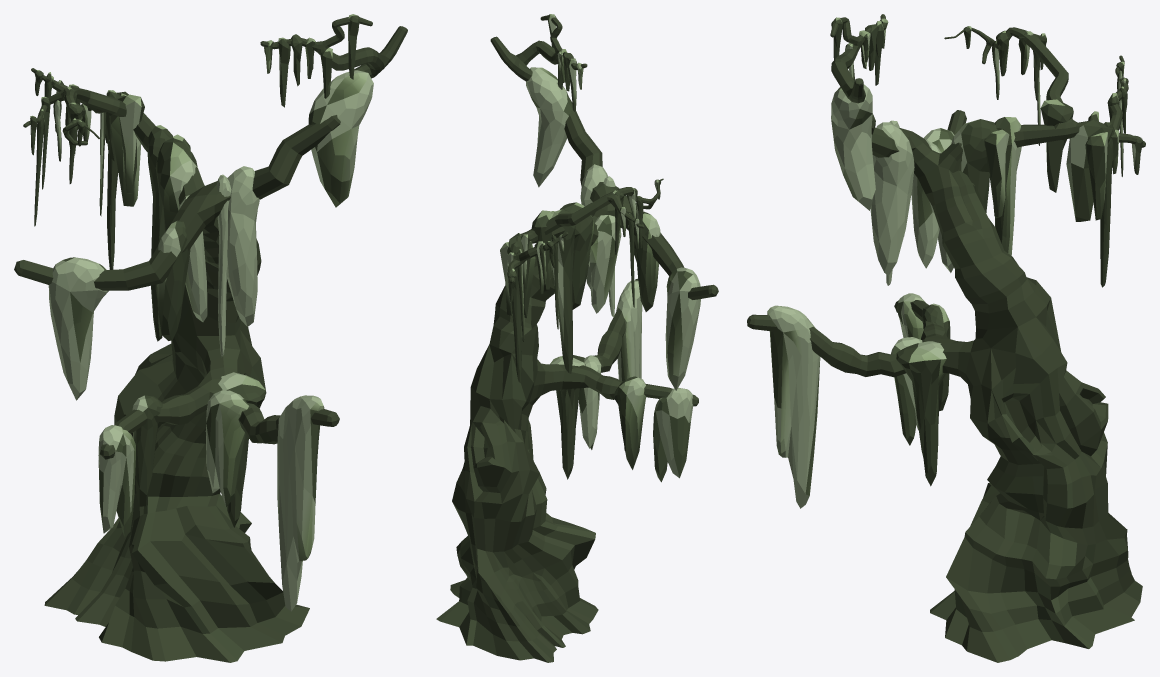
File: EA_Swamp_tree7.glb
3 views of the same model, side by side, from view 1: azimuth 30°, elevation 25°; view 2: azimuth 150°, elevation 25°; view 3: azimuth 270°, elevation 25° (orthographic). The views are drawn at different scales.
Visible parts, largest first — view 1: EA_Swamp_tree7; view 2: EA_Swamp_tree7; view 3: EA_Swamp_tree7.
Boxes of the visible parts, bbox=[...] form: EA_Swamp_tree7: bbox=[14, 14, 407, 662]; EA_Swamp_tree7: bbox=[436, 14, 718, 662]; EA_Swamp_tree7: bbox=[747, 14, 1145, 662].
Size of the model in its own units: 5.89 by 11.13 by 6.4.
Materials: 1 (1 with a texture image).
